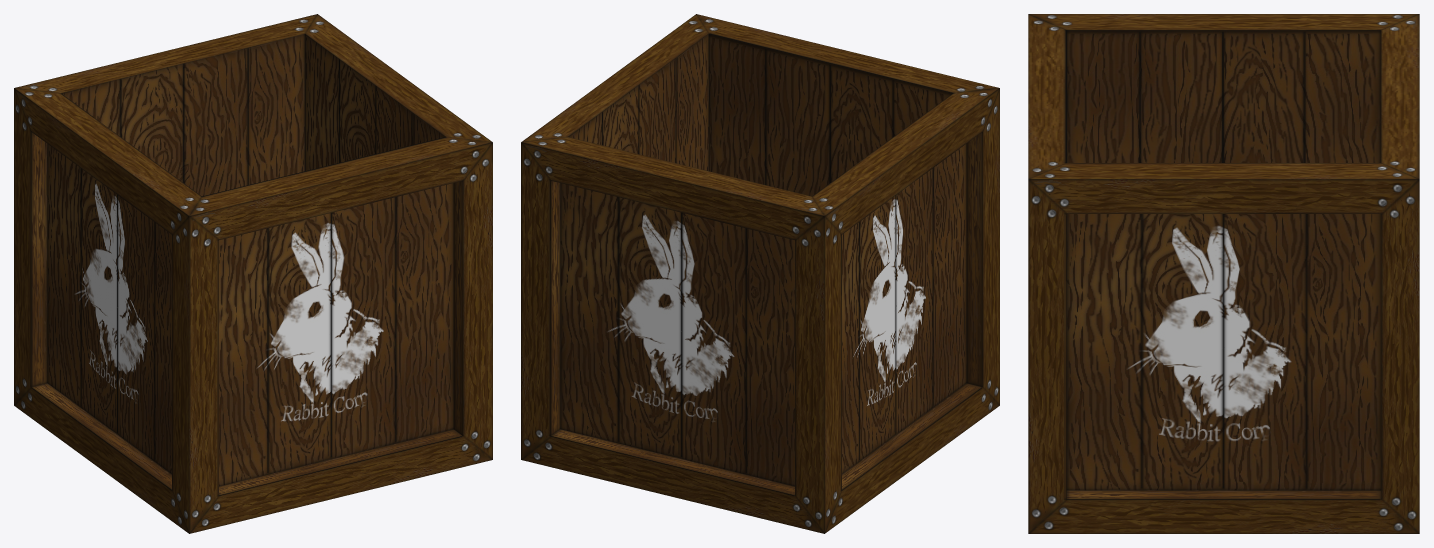
File: OpenBoxews.obj
The picture shows the model from 3 angles, left to right: view 1: azimuth 30°, elevation 25°; view 2: azimuth 150°, elevation 25°; view 3: azimuth 270°, elevation 25°; orthographic projection. The views are drawn at different scales.
Parts seen in each view (by area): view 1: polySurface6; view 2: polySurface6; view 3: polySurface6.
Part boxes in pixels (x1,y1,x2,y2): polySurface6: (14, 14, 492, 533); polySurface6: (521, 14, 999, 533); polySurface6: (1028, 14, 1419, 533).
Size of the model in its own units: 20 by 20 by 20.
